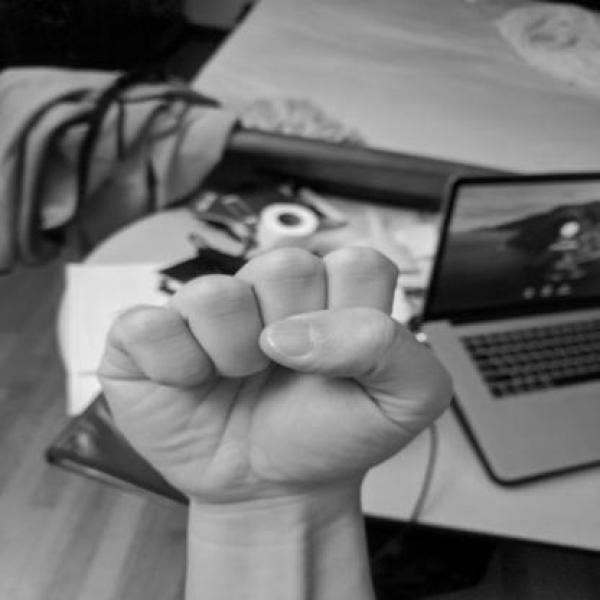S: (89, 238, 462, 512)
